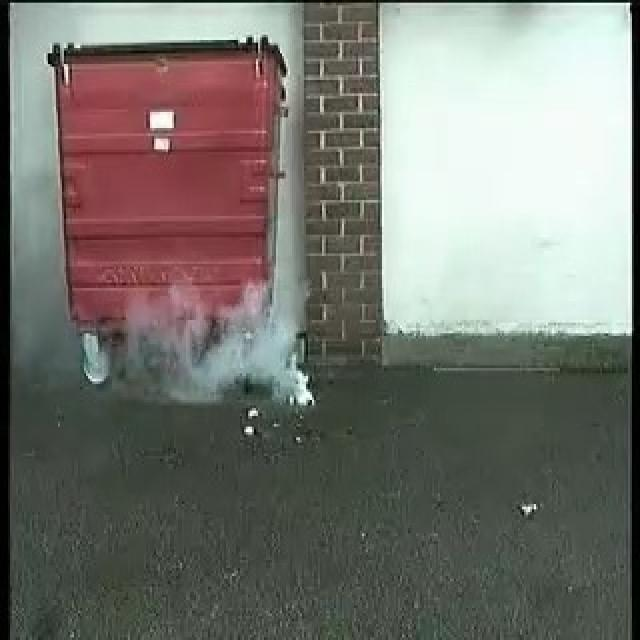smoke: (124, 272, 313, 408)
